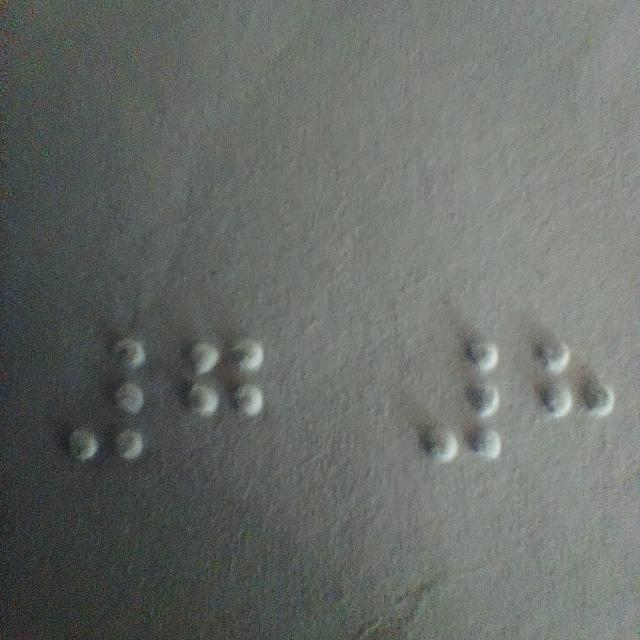digit_7: (186, 340, 264, 464)
digit_8: (537, 339, 615, 463)
number_sign: (69, 339, 146, 463), (423, 340, 500, 464)
